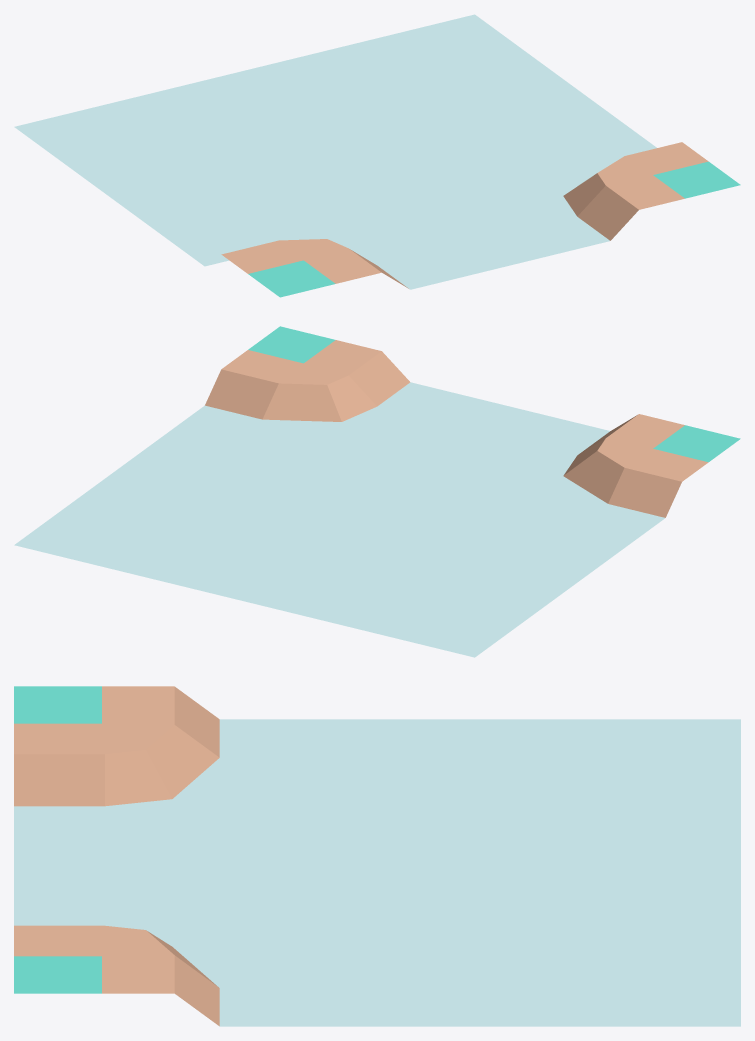
The model's file is ground_riversideopen.glb.
3 renders of one model, top to bottom at view 1: azimuth 30°, elevation 25°; view 2: azimuth 150°, elevation 25°; view 3: azimuth 270°, elevation 25°, orthographic. The views are drawn at different scales.
Visible parts, largest first — view 1: ground_riverSideOpen; view 2: ground_riverSideOpen; view 3: ground_riverSideOpen.
Part boxes in pixels (box(x1,y1,x2,y2)): ground_riverSideOpen: box(14, 14, 740, 297); ground_riverSideOpen: box(14, 326, 740, 657); ground_riverSideOpen: box(14, 686, 740, 1026).
Bounding box in the file's own units: 1 × 0.05 × 1.
